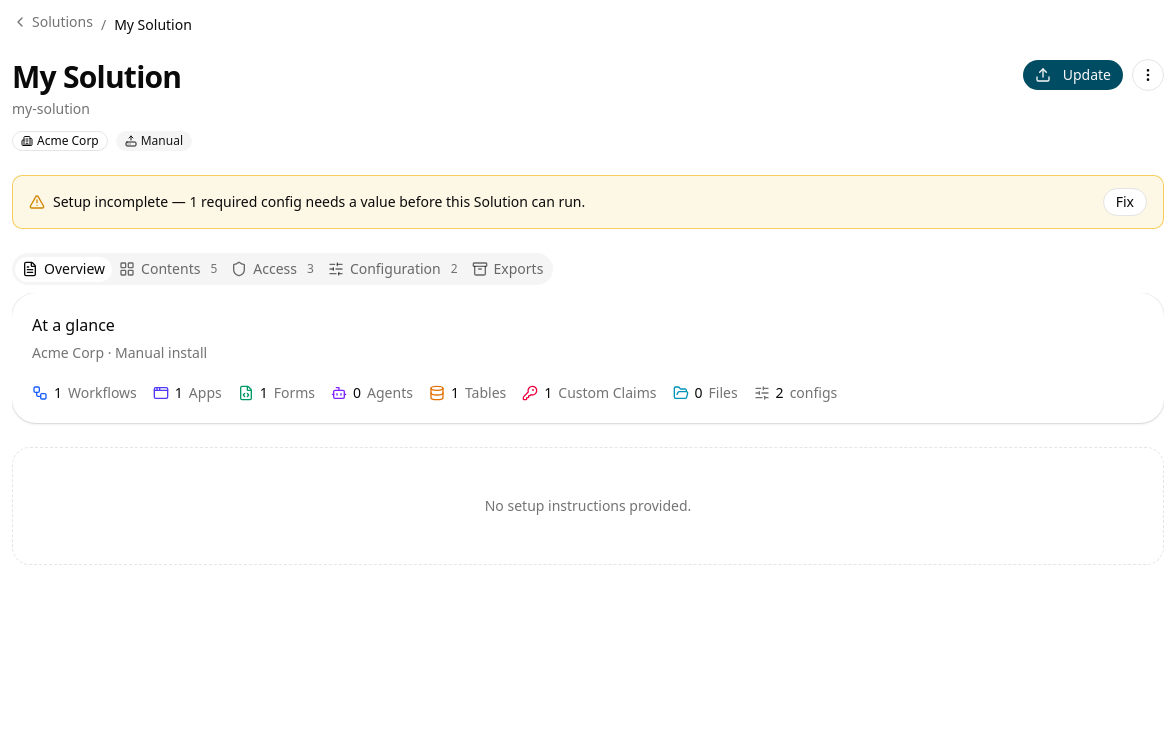
Test: SolutionDetail › shows the per-type chips inside Contents
The image size is (1176, 732).
Click the tab with test id "tab-contents": {"x": 168, "y": 269} [112,256,224,282]
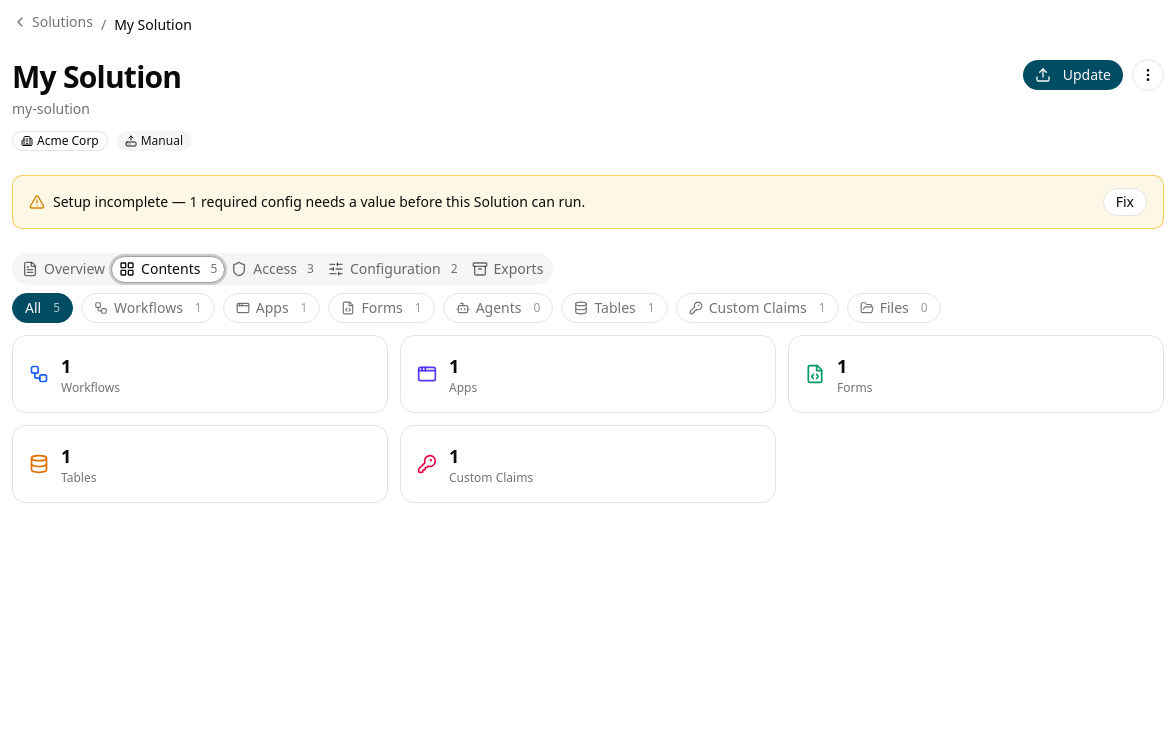
Expected: the button with test id "chip-tables" shows "Tables", [561,293,668,323]
Expected: the button with test id "chip-tables" shows "1", [561,293,668,323]
Expected: the button with test id "chip-workflows" shows "Workflows", [81,293,215,323]
